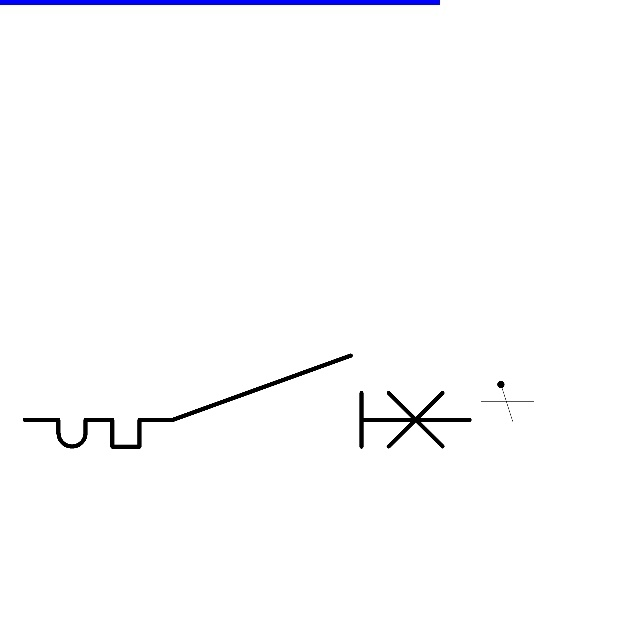interruptor_termomagnetico: (13, 344, 481, 458)
